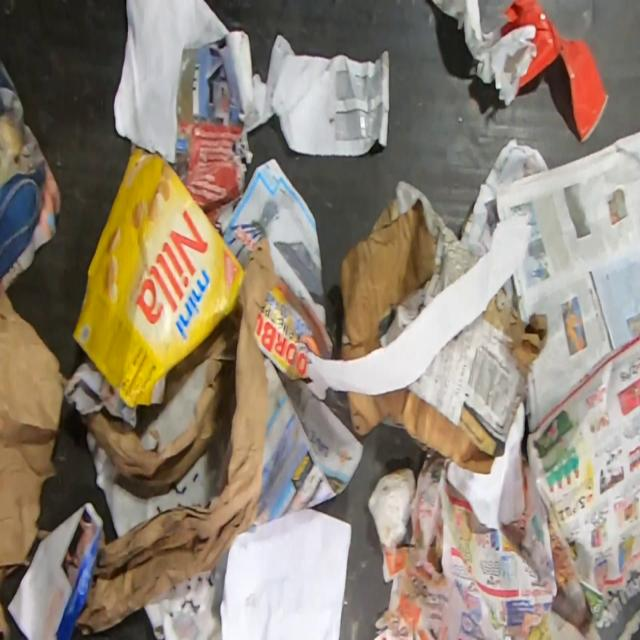cardboard: (71, 141, 249, 409), (292, 208, 534, 400), (347, 290, 548, 474), (340, 179, 483, 360)
rigid_plastic: (498, 0, 610, 145)
